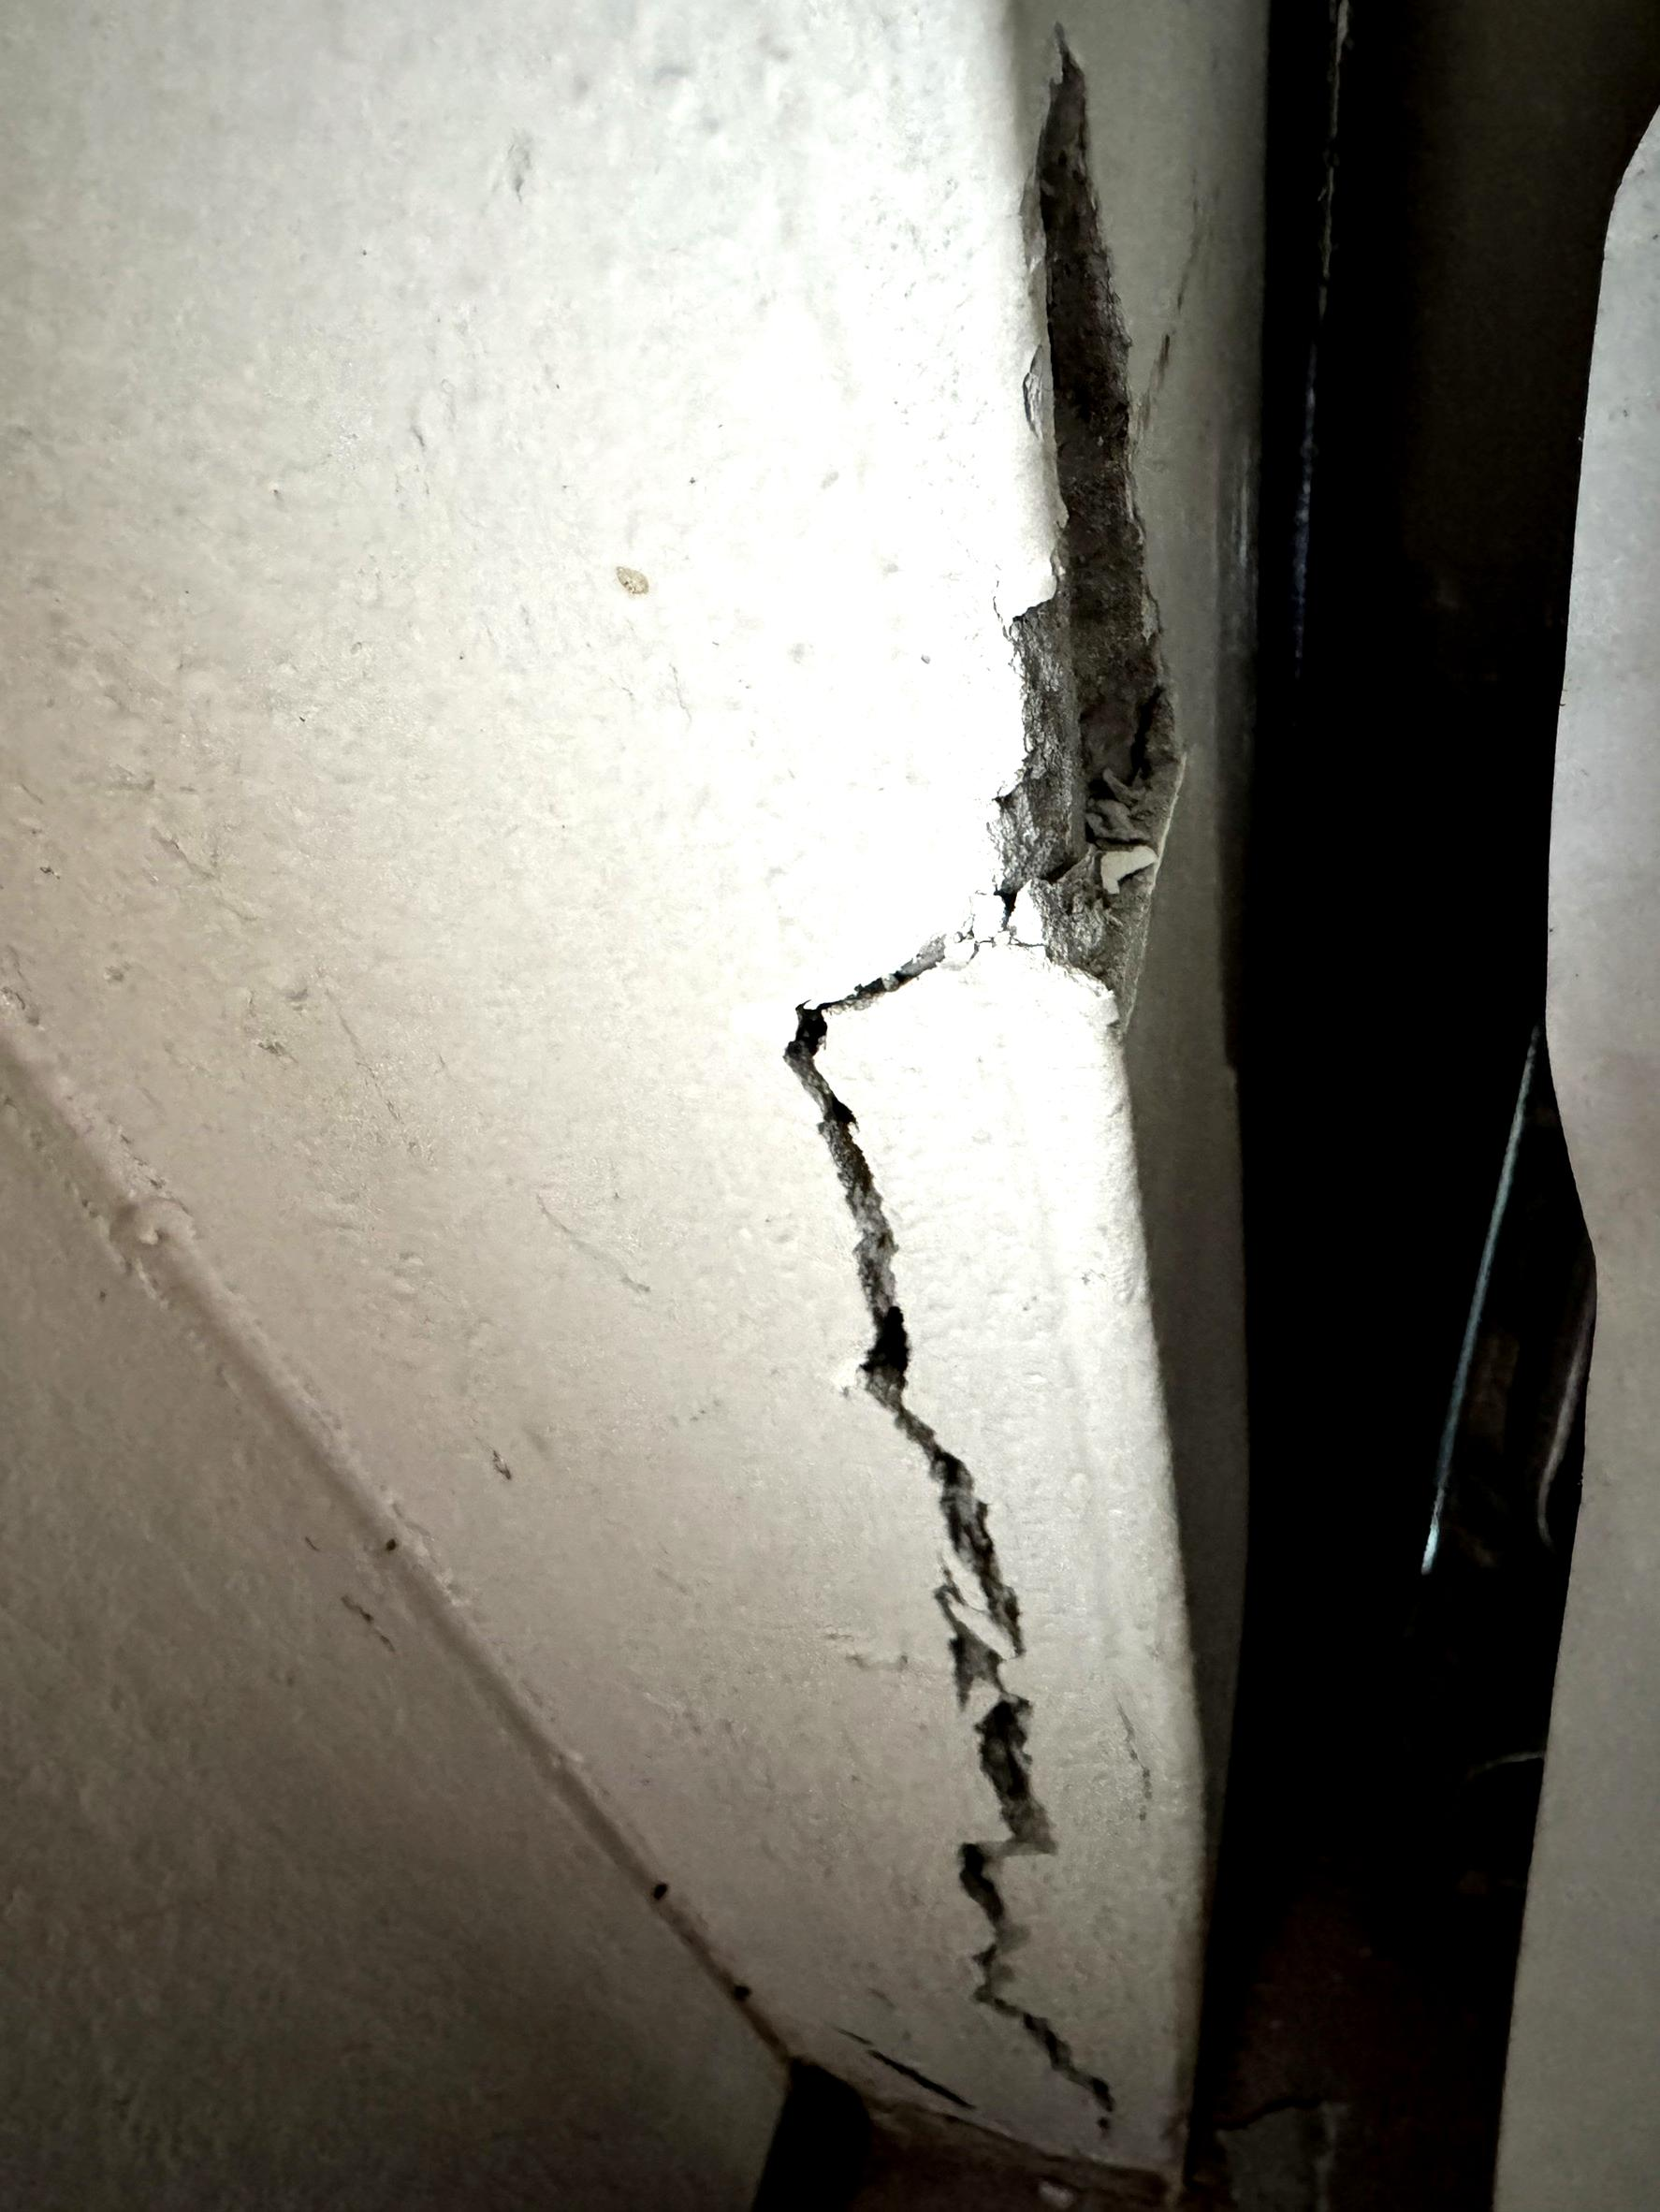High: (616, 9, 1266, 2205)
